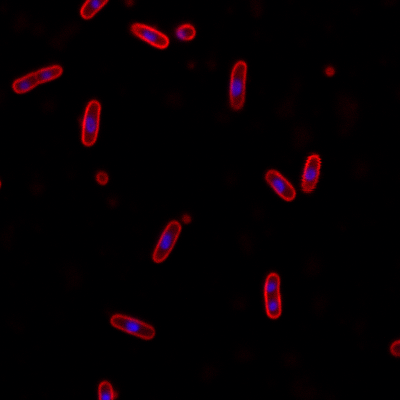CAM: (11, 64, 65, 93), (149, 217, 182, 264), (110, 312, 157, 341), (264, 166, 297, 203), (79, 99, 102, 147), (264, 270, 283, 320), (230, 60, 248, 110), (300, 154, 322, 193)
Oblique: (129, 19, 170, 49), (174, 23, 196, 43)
Vesicle: (322, 63, 337, 77), (95, 170, 109, 185), (180, 212, 191, 224)
